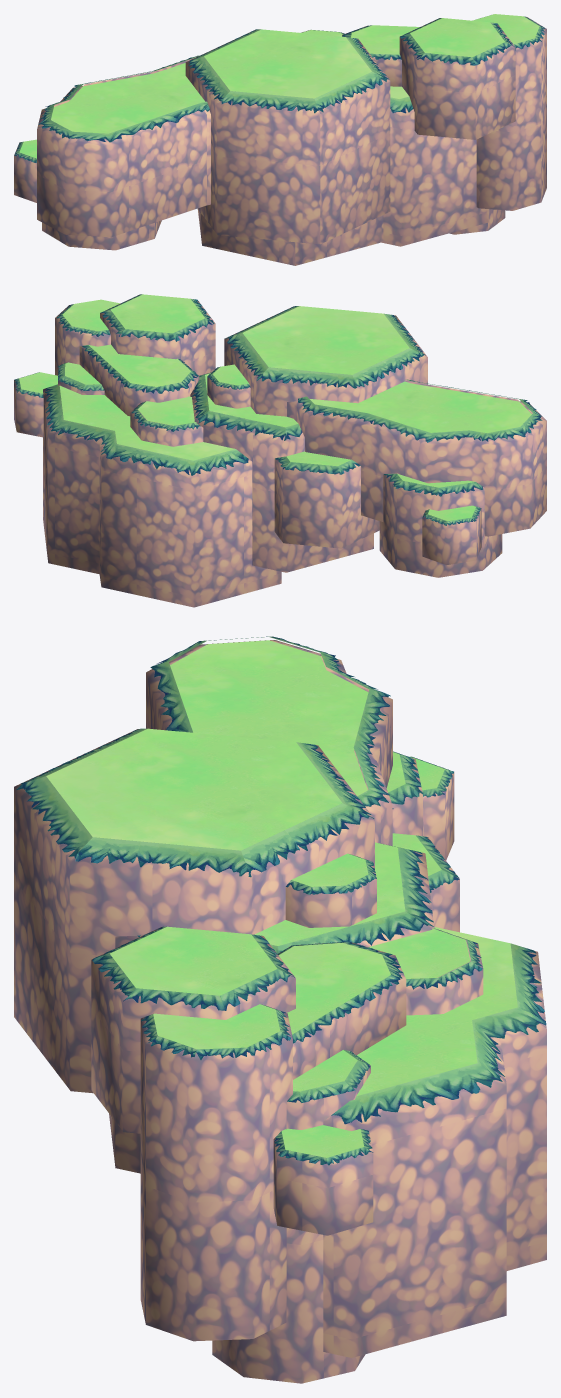
File: Rock_Module2.fbx
3 views of the same model, one above another, from view 1: azimuth 30°, elevation 25°; view 2: azimuth 150°, elevation 25°; view 3: azimuth 270°, elevation 25° (orthographic). The views are drawn at different scales.
Parts seen in each view (by area): view 1: Module2_Side, Module2_upper, Module2_Edge; view 2: Module2_Side, Module2_upper, Module2_Edge; view 3: Module2_Side, Module2_upper, Module2_Edge.
Part boxes in pixels (x1,y1,x2,y2): Module2_Side: (14,17,546,265); Module2_upper: (19,14,539,158); Module2_Edge: (14,16,544,162); Module2_Side: (14,294,546,607); Module2_upper: (19,294,531,521); Module2_Edge: (14,294,542,525); Module2_Side: (14,640,546,1383); Module2_upper: (46,640,517,1157); Module2_Edge: (16,636,546,1165).
Bounding box in the file's own units: 5362 × 2244 × 2787.
Materials: 3 (3 with a texture image).
